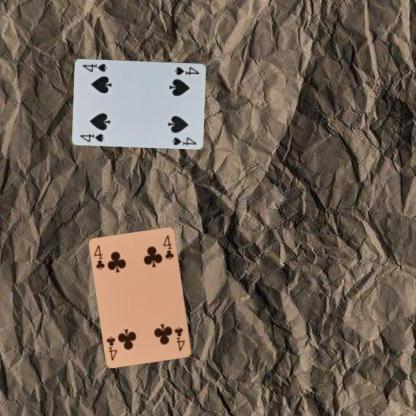4c: (172, 324, 186, 353), (92, 243, 106, 271)
4s: (78, 131, 106, 143), (173, 64, 200, 76)
